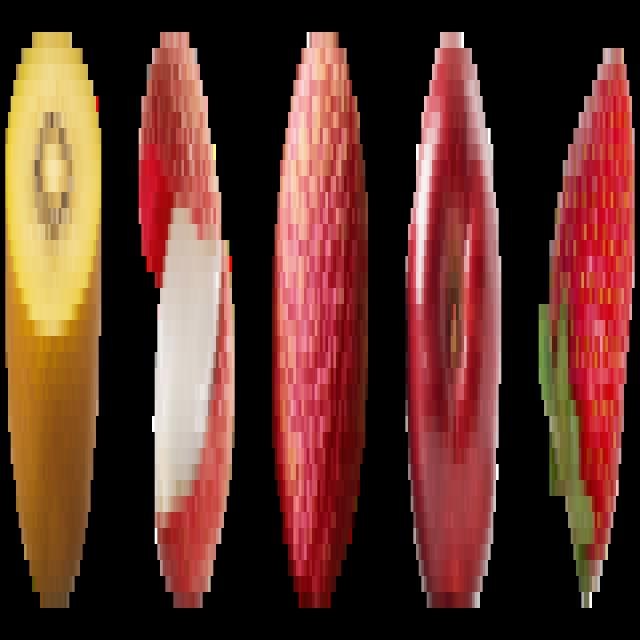apple: (402, 19, 504, 622)
kiwifruit: (2, 13, 104, 622)
lychee: (130, 9, 238, 624), (267, 26, 373, 615)
strawberry: (536, 19, 636, 623)
